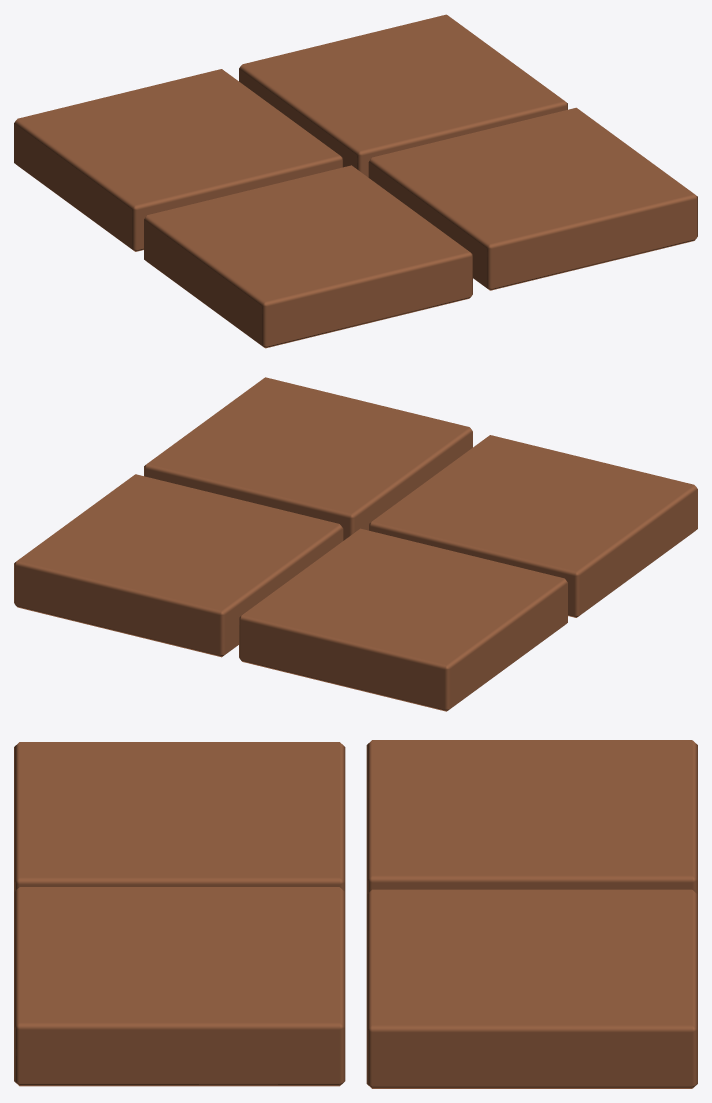
The model's file is stone-halls-tile-a.114f8e36.glb.
3 views of the same model, one above another, from view 1: azimuth 30°, elevation 25°; view 2: azimuth 150°, elevation 25°; view 3: azimuth 270°, elevation 25° (orthographic). The views are drawn at different scales.
Parts seen in each view (by area): view 1: body; view 2: body; view 3: body.
Boxes of the visible parts, left/top/right/bottom form: body: left=14, top=14, right=697, bottom=348; body: left=14, top=377, right=697, bottom=711; body: left=14, top=740, right=697, bottom=1088.
Bounding box in the file's own units: 0.97 × 0.106 × 0.97.
